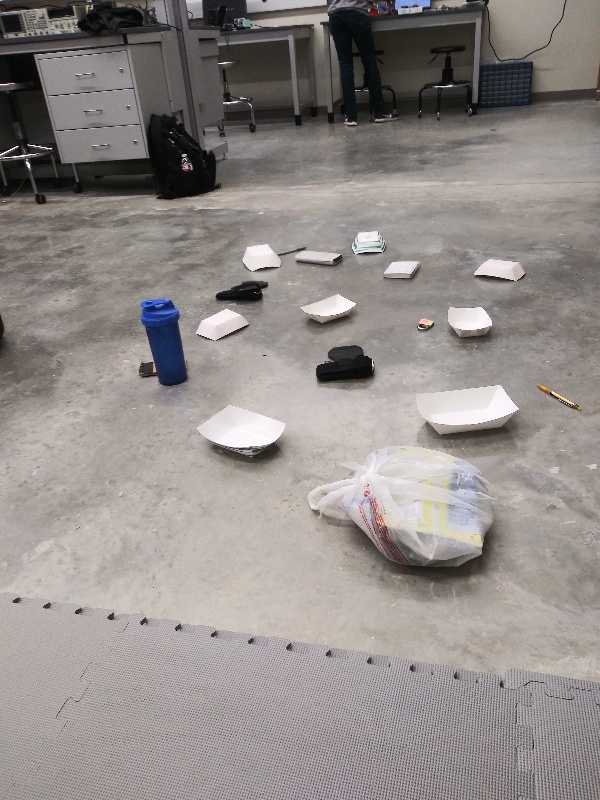plate: (191, 400, 290, 463), (407, 382, 522, 434), (192, 306, 250, 345), (443, 301, 498, 341), (298, 291, 362, 325), (470, 254, 527, 285), (240, 240, 283, 274), (347, 229, 394, 258)
